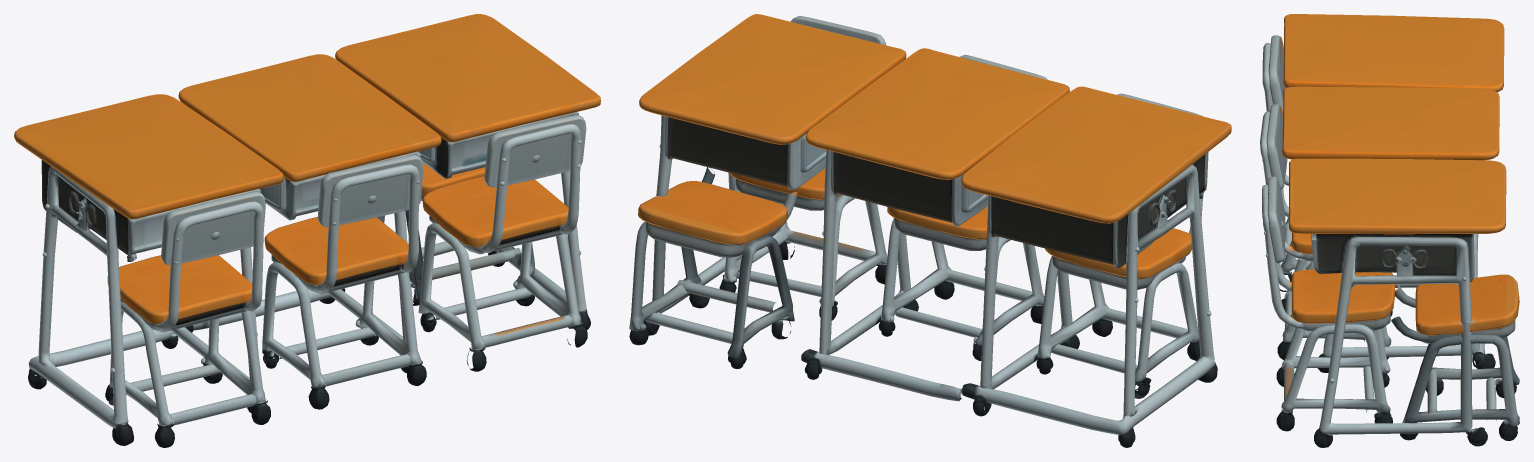
The model's file is toonstudio_school_desk.glb.
3 views of the same model, side by side, from view 1: azimuth 30°, elevation 25°; view 2: azimuth 150°, elevation 25°; view 3: azimuth 270°, elevation 25° (orthographic). The views are drawn at different scales.
Parts seen in each view (by area): view 1: ab965e59_7e74_410a_b738_243dec110bc3; view 2: ab965e59_7e74_410a_b738_243dec110bc3; view 3: ab965e59_7e74_410a_b738_243dec110bc3.
Part boxes in pixels (x1,y1,x2,y2): ab965e59_7e74_410a_b738_243dec110bc3: [14, 14, 600, 447]; ab965e59_7e74_410a_b738_243dec110bc3: [629, 14, 1231, 447]; ab965e59_7e74_410a_b738_243dec110bc3: [1260, 14, 1519, 447].
Bounding box in the file's own units: 3 × 1.5 × 1.55.
1 material, 1 textured.
